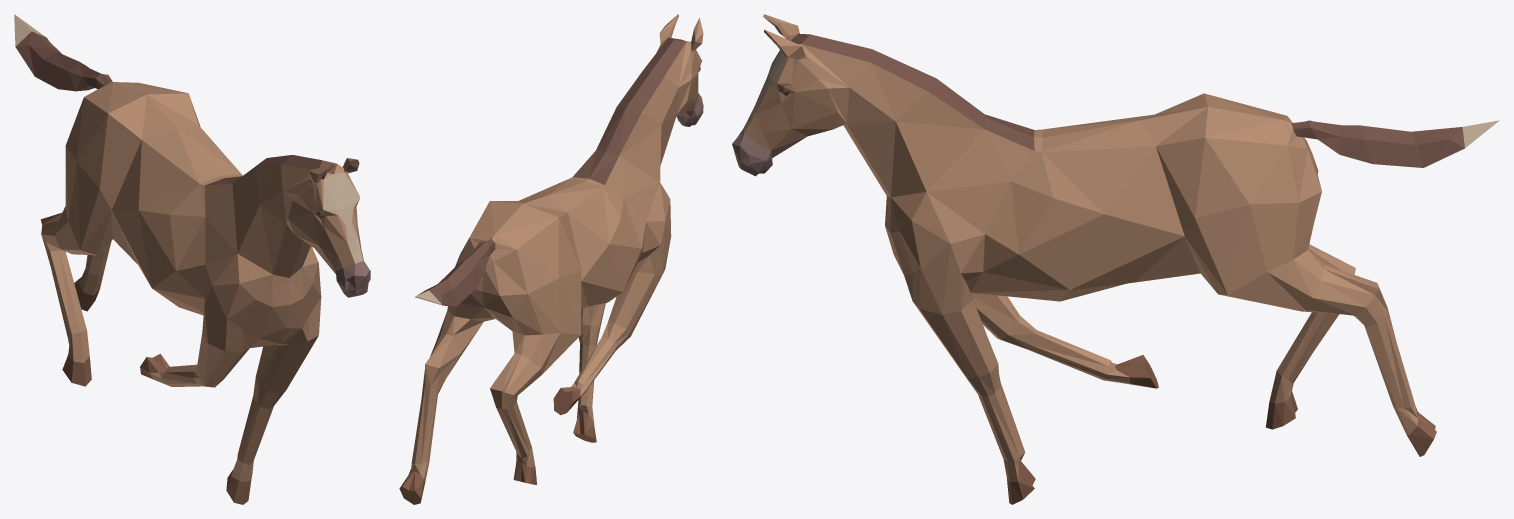
The model's file is Horse.glb.
The picture shows the model from 3 angles, left to right: view 1: azimuth 30°, elevation 25°; view 2: azimuth 150°, elevation 25°; view 3: azimuth 270°, elevation 25°; orthographic projection. The views are drawn at different scales.
Parts seen in each view (by area): view 1: mesh_0; view 2: mesh_0; view 3: mesh_0.
Part boxes in pixels (x1,y1,x2,y2): mesh_0: (14, 14, 370, 504); mesh_0: (399, 14, 703, 504); mesh_0: (732, 14, 1499, 504).
Bounding box in the file's own units: 65.9 × 200 × 290.
